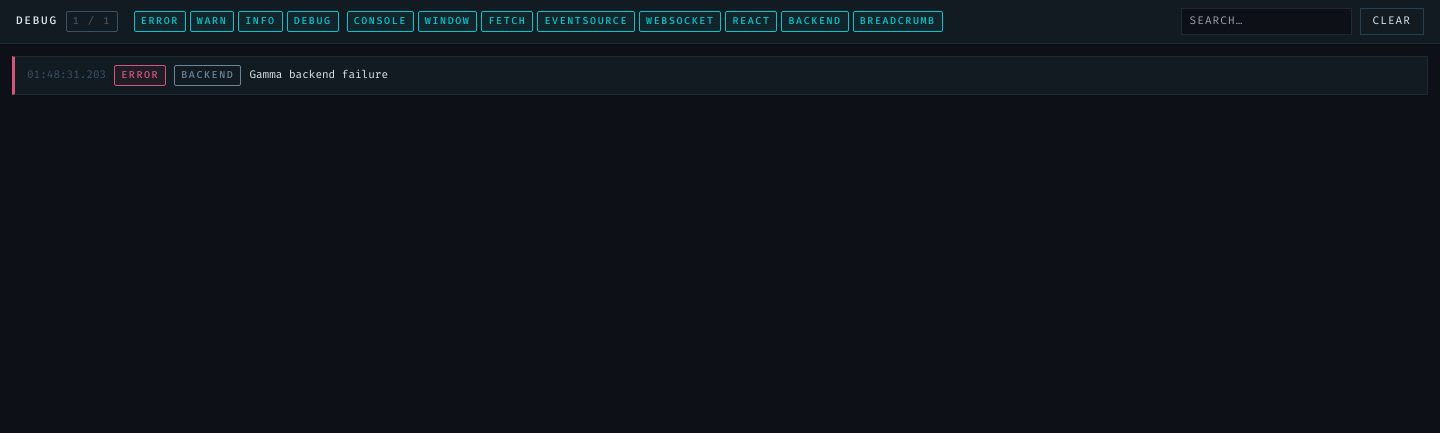
Test: DebugView › expanding a row reveals context, stack, breadcrumbs, and action buttons
The width and height of the screenshot is (1440, 433).
Click the button "01:48:31.203 error backend Gamma backend failure": click(67, 74) [15,56,1427,94]
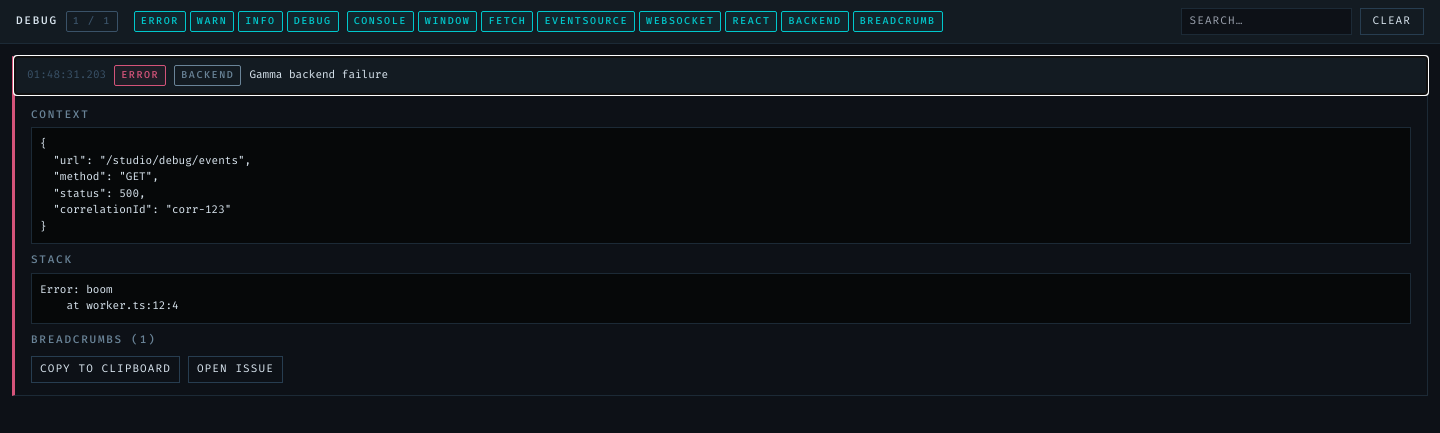
Check: the element with test id "debug-row-detail" is shown
Check: the text "CONTEXT" is shown, box [31,108,90,120]
Check: the text "STACK" is shown, box [31,253,73,266]
Click the heading "BREADCRUMBS (1)": click(94, 339) [31,332,156,346]
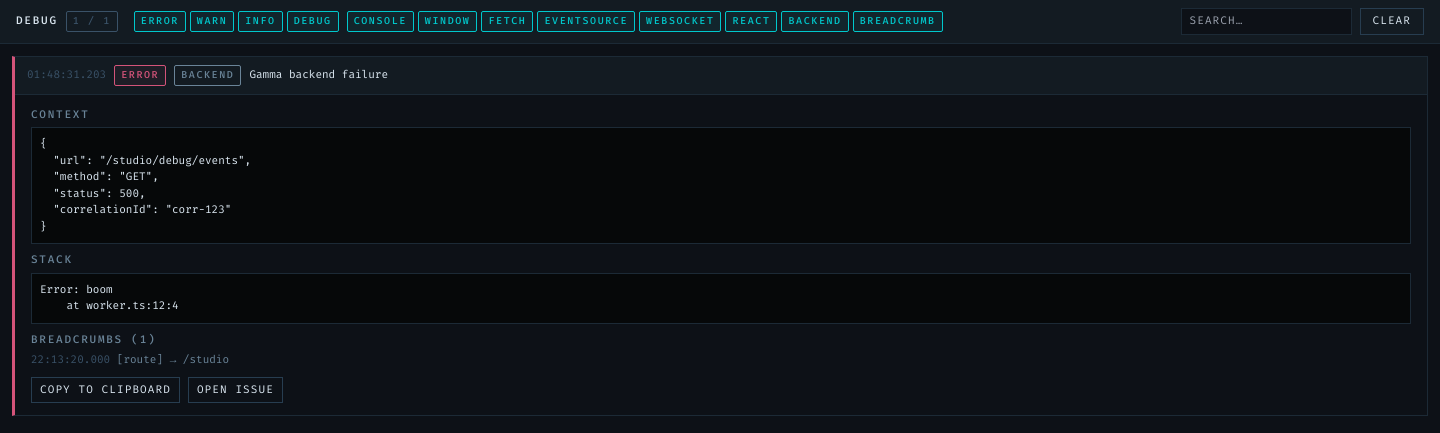
Check: the text "correlationId" is shown, box [40,137,251,232]
Check: the text "Error: boom at worker.ts:12:4" is shown, box [31,272,1411,324]
Check: the list item "22:13:20.000 [route] → /studio" is shown, box [31,353,229,366]
